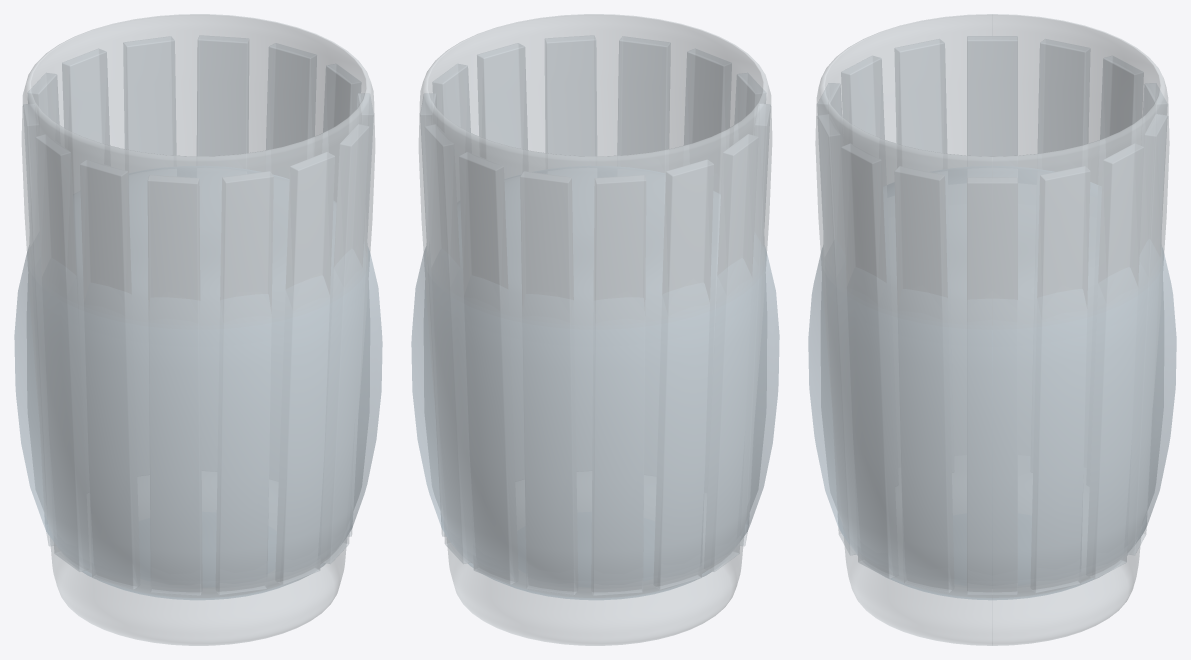
File: glass.glb
The picture shows the model from 3 angles, left to right: view 1: azimuth 30°, elevation 25°; view 2: azimuth 150°, elevation 25°; view 3: azimuth 270°, elevation 25°; orthographic projection.
Parts seen in each view (by area): view 1: glass, water, facet (×14); view 2: glass, water, facet (×14); view 3: glass, water, facet (×14).
Part boxes in pixels (x1,y1,x2,y2): glass: [22, 14, 374, 645]; water: [14, 166, 382, 599]; facet (×14): [23, 35, 373, 595]; glass: [419, 14, 771, 645]; water: [411, 166, 779, 599]; facet (×14): [420, 35, 770, 595]; glass: [815, 14, 1169, 645]; water: [808, 166, 1176, 599]; facet (×14): [817, 36, 1167, 594].
Size of the model in its own units: 0.087 by 0.1322 by 0.087.
